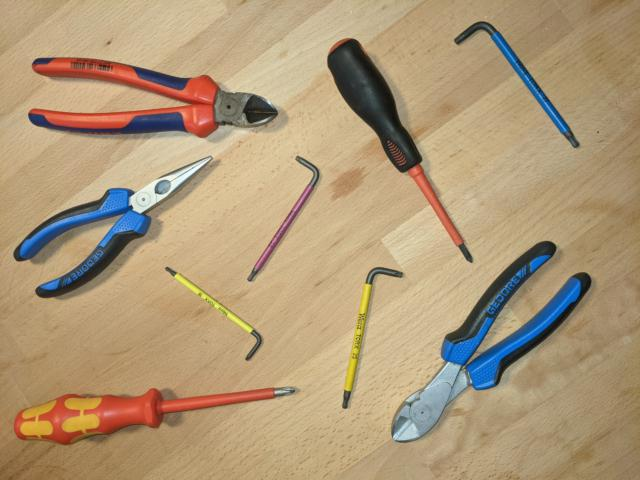Inbusschlüssel: (452, 18, 582, 151), (160, 263, 266, 364), (242, 154, 322, 285), (338, 265, 406, 413)
Schraubendreher: (324, 35, 477, 268), (11, 382, 300, 449)
Seitenschneider: (387, 239, 593, 446), (26, 53, 282, 140)
Zange: (10, 150, 218, 301)
